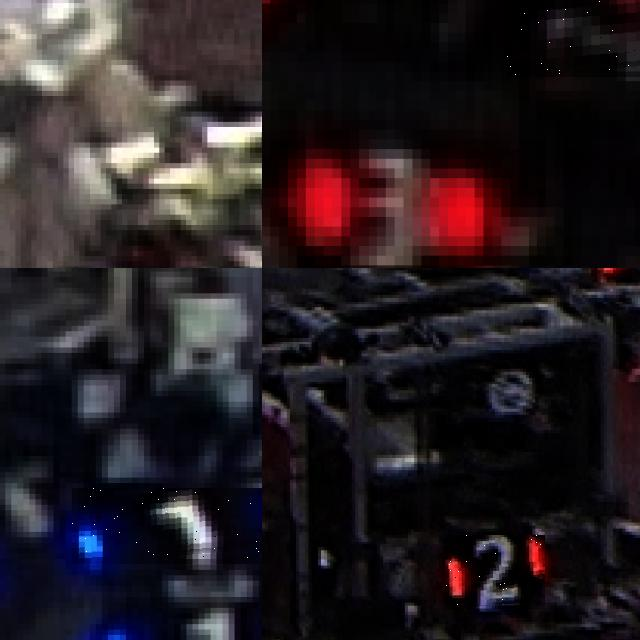B1: (71, 488, 262, 564), (95, 602, 262, 640)
R2: (445, 535, 545, 609)
R3: (283, 124, 505, 268), (506, 0, 640, 76)
